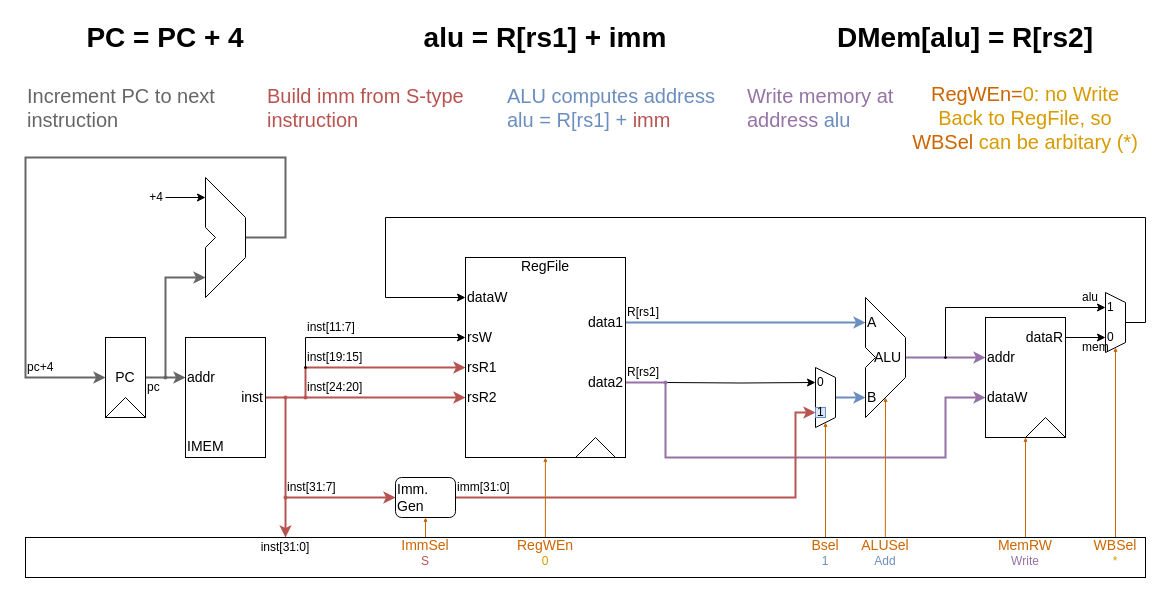
This 1171x595 diagram has some shape labels left out. Here are the shapes that lost their labels. From the top down, the box of each, then its label:
(205, 217, 245, 297): Add
(984, 316, 1066, 438): DMEM
(24, 536, 1146, 578): Control Logic
